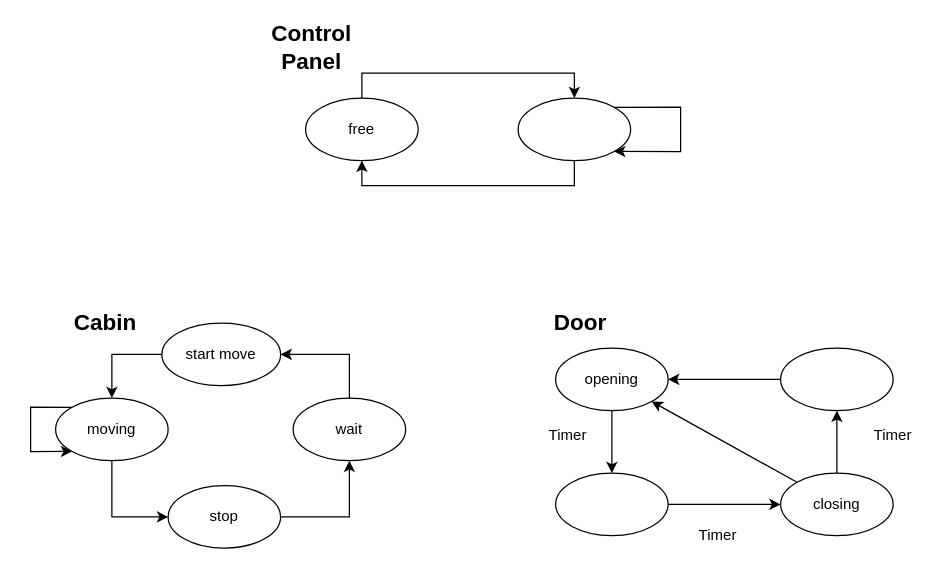
Image size: 940x570. Some labels were removed from this diagram. Here are the shapes that lost their labels. From the top down, the box of each, then its label:
(517, 97, 631, 161): busy
(779, 347, 893, 411): closed
(554, 472, 668, 536): opened
